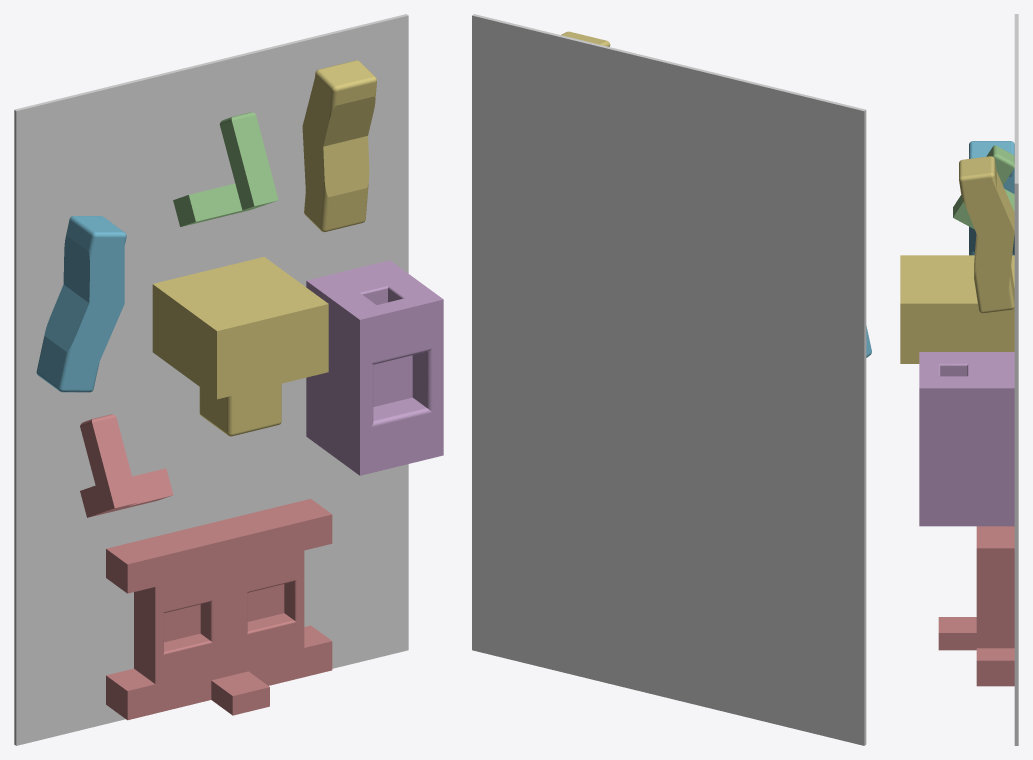
The model's file is pickup_layout.glb.
3 renders of one model, left to right at view 1: azimuth 30°, elevation 25°; view 2: azimuth 150°, elevation 25°; view 3: azimuth 270°, elevation 25°, orthographic. The views are drawn at different scales.
Parts seen in each view (by area): view 1: world, 0.obj, 3.obj, 6.obj, 2.obj, 1.obj, 4.obj, 5.obj; view 2: world; view 3: 3.obj, 6.obj, 0.obj, 1.obj, world, 4.obj, 2.obj.
Boxes of the visible parts, x1,y1,x2,y2 form: world: (14,14,408,745); 0.obj: (106,498,332,720); 3.obj: (306,260,443,475); 6.obj: (152,257,328,436); 2.obj: (36,216,126,392); 1.obj: (302,60,376,232); 4.obj: (173,112,278,226); 5.obj: (80,414,173,517); world: (472,14,866,745); 3.obj: (919,352,1014,526); 6.obj: (900,255,1014,363); 0.obj: (938,526,1014,686); 1.obj: (959,156,1014,313); world: (1014,14,1018,745); 4.obj: (953,145,1014,229); 2.obj: (969,141,1014,255).
Size of the model in its own units: 21.06 by 32.57 by 6.2.
